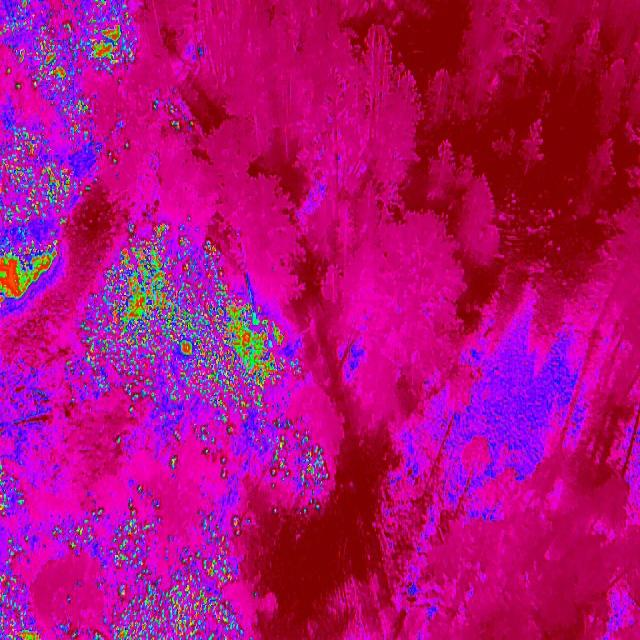fire: (86, 216, 300, 412), (86, 558, 251, 640), (0, 1, 139, 91), (0, 120, 79, 230), (268, 416, 334, 519), (0, 235, 62, 309), (0, 532, 39, 638), (145, 93, 208, 141), (200, 413, 240, 483), (51, 504, 106, 554), (111, 516, 162, 566), (199, 510, 250, 560), (55, 91, 98, 140), (0, 459, 28, 521), (120, 484, 162, 514), (106, 138, 136, 168), (64, 348, 85, 388), (167, 452, 180, 472), (114, 433, 125, 448)
